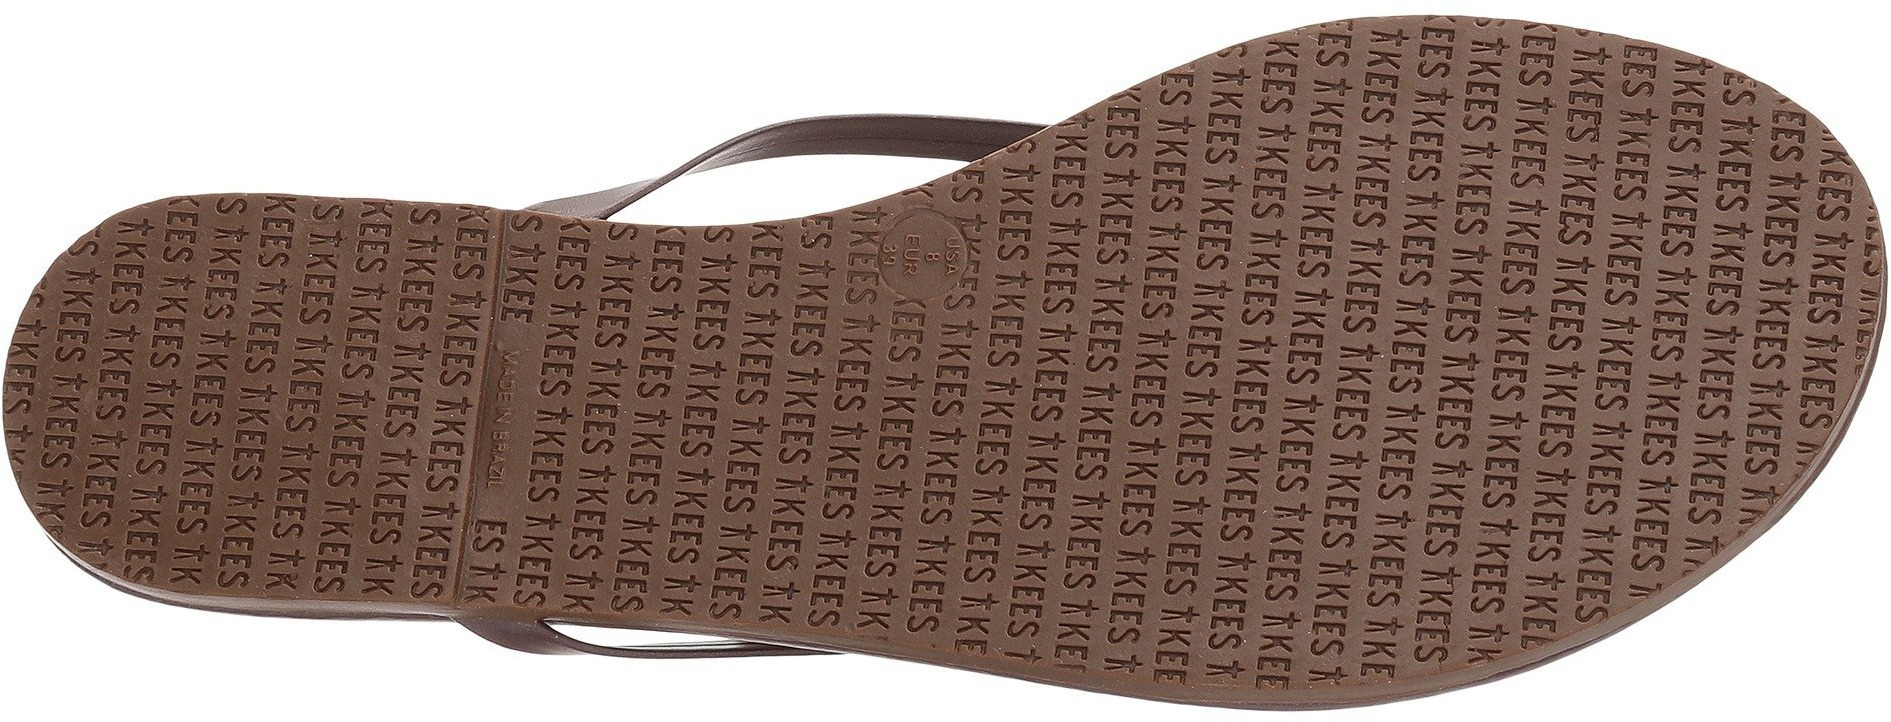text: (1192, 65, 1533, 388), (1110, 401, 1405, 676), (1544, 102, 1809, 385), (41, 282, 299, 507), (868, 401, 1094, 639), (625, 242, 856, 459), (1432, 392, 1663, 585), (974, 181, 1183, 392), (306, 212, 484, 380), (543, 460, 686, 605), (306, 438, 452, 573), (1674, 398, 1784, 507), (504, 239, 613, 344), (888, 231, 959, 295)
